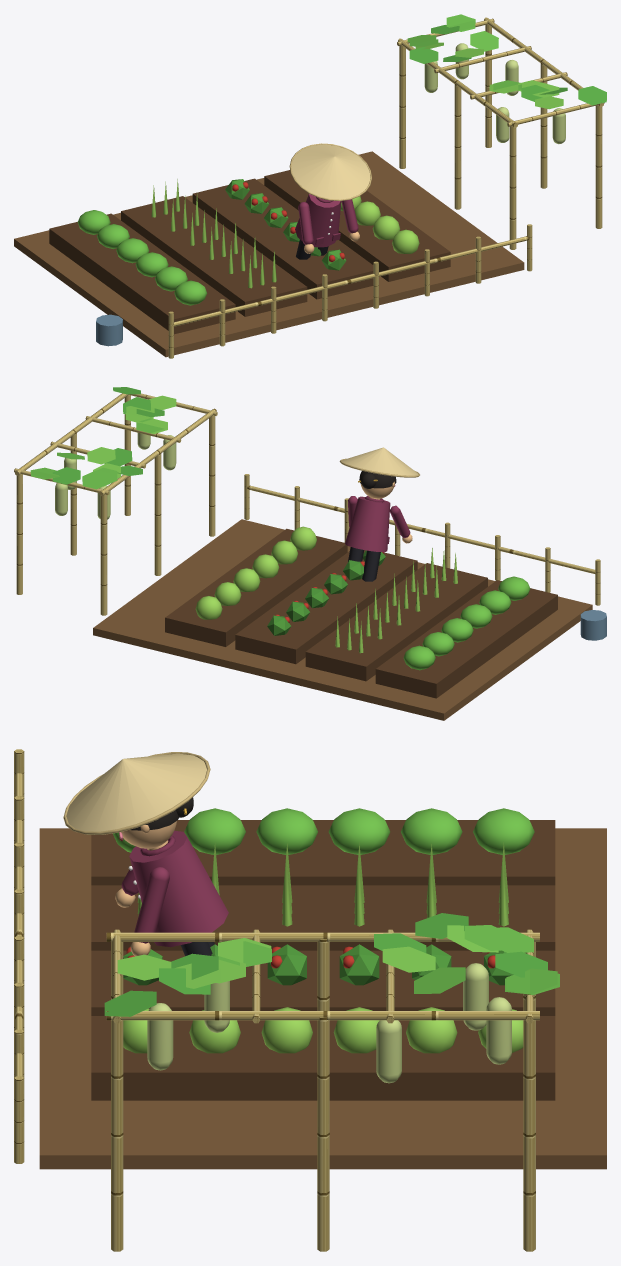
Rendered from vuon_rau.glb.
The picture shows the model from 3 angles, top to bottom: view 1: azimuth 30°, elevation 25°; view 2: azimuth 150°, elevation 25°; view 3: azimuth 270°, elevation 25°; orthographic projection. The views are drawn at different scales.
Parts seen in each view (by area): view 1: vuon_rau, object 30, object 10; view 2: vuon_rau, object 30; view 3: vuon_rau, object 30, object 12, object 31, object 14.
Boxes of the visible parts, bbox=[...] form: vuon_rau: bbox=[14, 14, 606, 358]; object 30: bbox=[291, 144, 370, 199]; object 10: bbox=[298, 202, 313, 244]; vuon_rau: bbox=[14, 387, 606, 720]; object 30: bbox=[342, 447, 418, 475]; vuon_rau: bbox=[14, 749, 606, 1251]; object 30: bbox=[66, 753, 206, 831]; object 12: bbox=[134, 867, 169, 943]; object 31: bbox=[63, 752, 210, 834]; object 14: bbox=[121, 821, 176, 848].
Bounding box in the file's own units: 2.12 × 0.5517 × 1.15.
36 materials, 1 textured.
